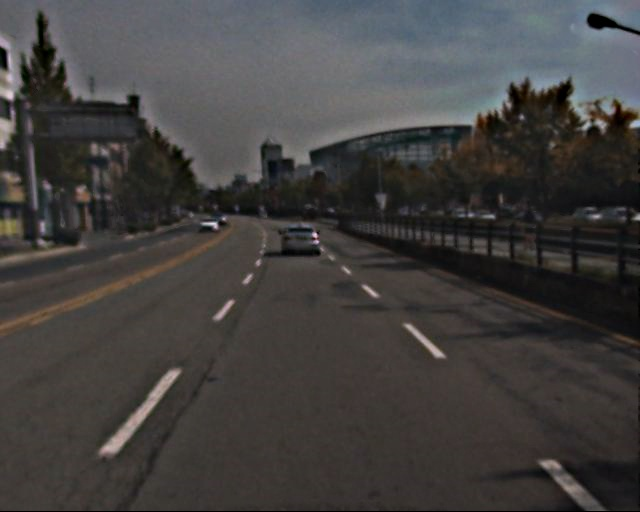person: (521, 207, 542, 258)
